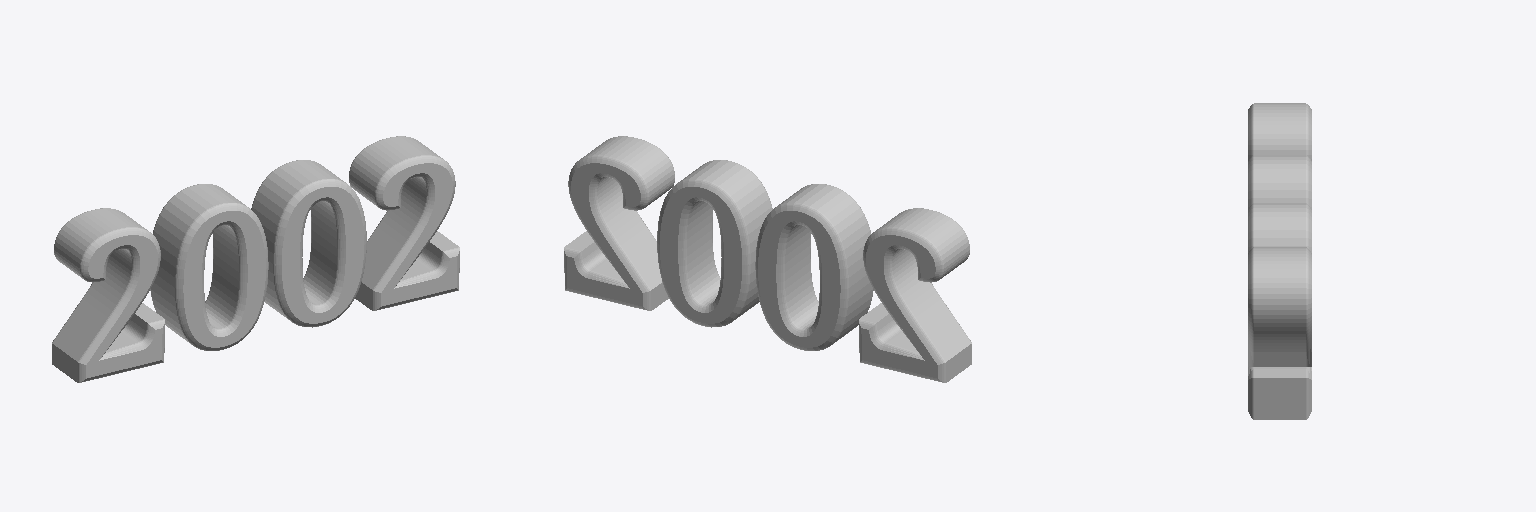
3 views of the same model, side by side, from view 1: azimuth 30°, elevation 25°; view 2: azimuth 150°, elevation 25°; view 3: azimuth 270°, elevation 25° (orthographic).
Parts seen in each view (by area): view 1: obj_0; view 2: obj_0; view 3: obj_0.
Part boxes in pixels (bbox=[...]): obj_0: bbox=[52, 136, 459, 382]; obj_0: bbox=[564, 136, 971, 382]; obj_0: bbox=[1248, 103, 1311, 419].
Size of the model in its own units: 60.41 by 22.1 by 8.71.